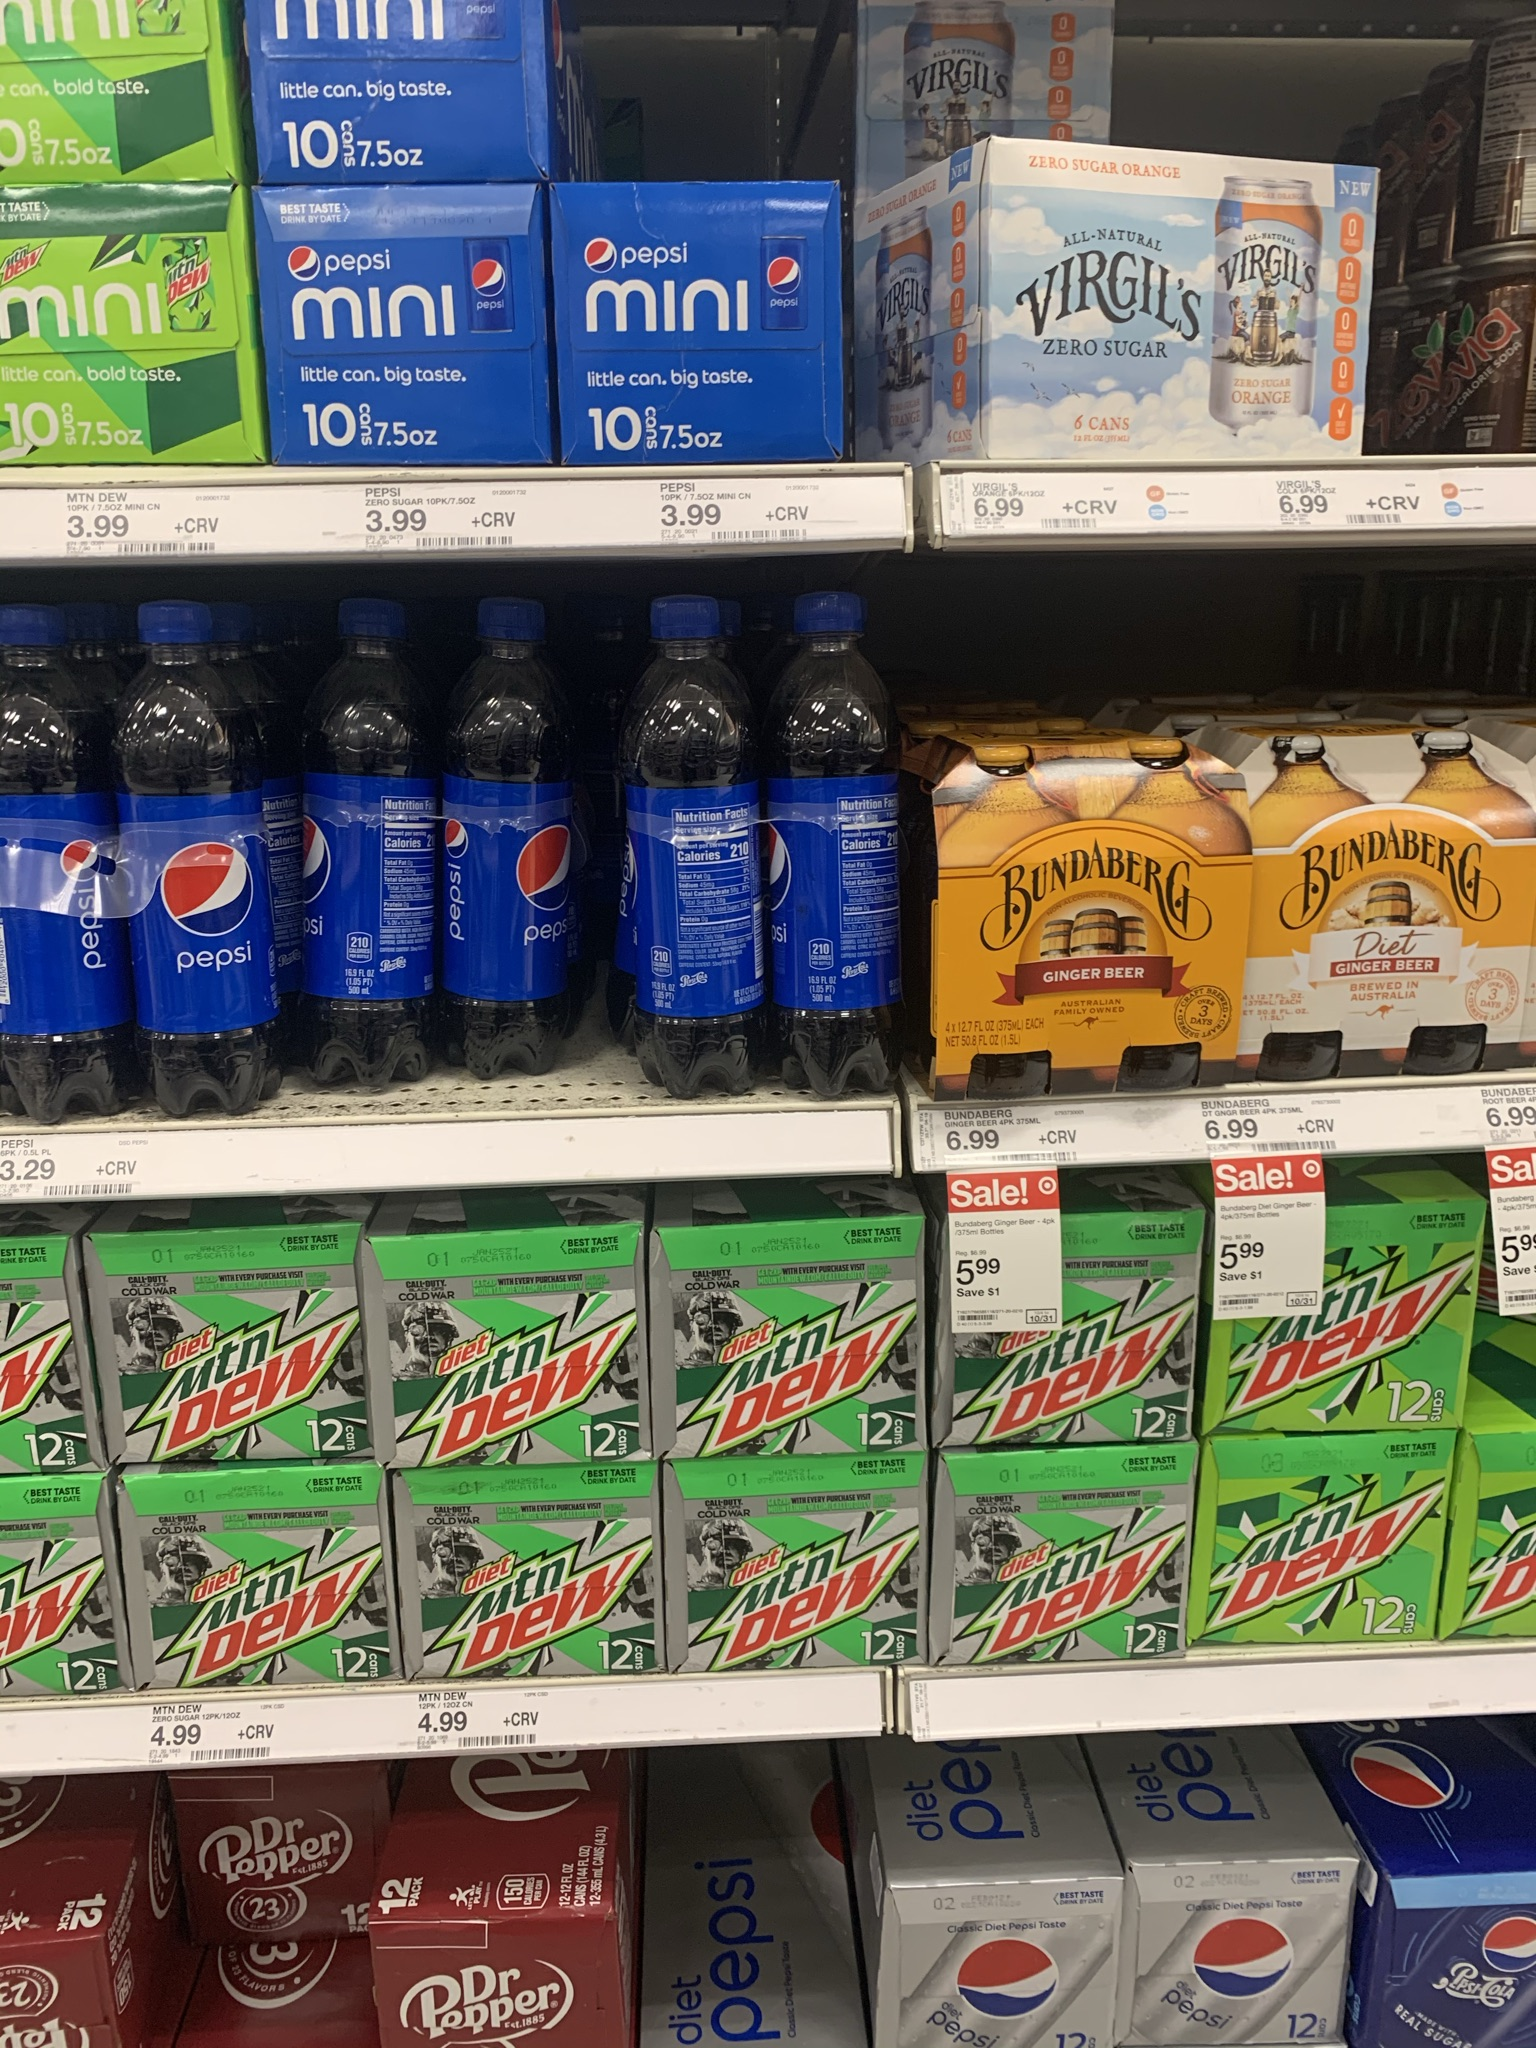mountain dew soda: (82, 1256, 387, 1496), (682, 1226, 925, 1442), (966, 1214, 1213, 1424), (428, 1479, 692, 1671), (1225, 1200, 1454, 1419), (123, 1519, 432, 1680), (958, 1464, 1213, 1650), (712, 1464, 920, 1671), (437, 1242, 658, 1430), (1234, 1450, 1438, 1611)
pepsi soda: (561, 181, 847, 460), (1133, 1851, 1536, 2048), (274, 205, 547, 464), (11, 610, 132, 1169), (148, 606, 260, 1116), (794, 571, 902, 1084), (479, 614, 578, 1056), (339, 616, 434, 1050), (897, 1880, 1142, 2048)
virgils soda: (978, 140, 1384, 448)
